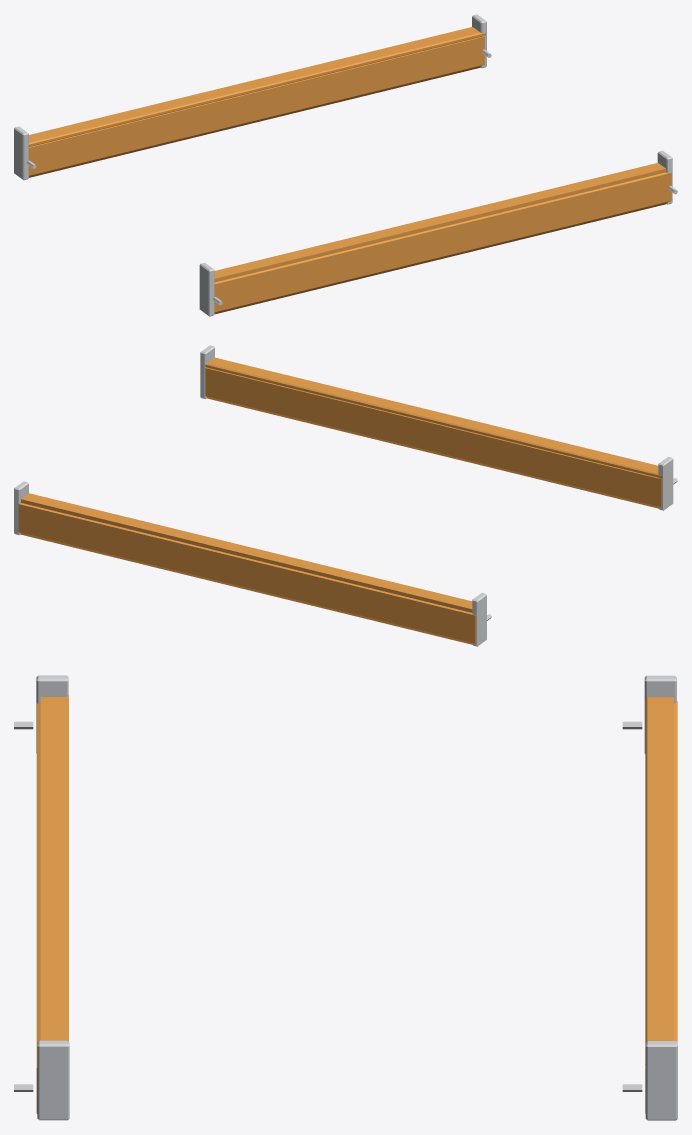
The model's file is pallet-rack-beam-pair.glb.
3 renders of one model, top to bottom at view 1: azimuth 30°, elevation 25°; view 2: azimuth 150°, elevation 25°; view 3: azimuth 270°, elevation 25°, orthographic. The views are drawn at different scales.
Parts seen in each view (by area): view 1: pallet-rack-beam-level; view 2: pallet-rack-beam-level; view 3: pallet-rack-beam-level.
Boxes of the visible parts, box(x1,y1,x2,y2) form: pallet-rack-beam-level: box(14, 14, 677, 316); pallet-rack-beam-level: box(14, 345, 677, 646); pallet-rack-beam-level: box(14, 675, 677, 1120).
Bounding box in the file's own units: 1.35 × 0.13 × 1.03.
